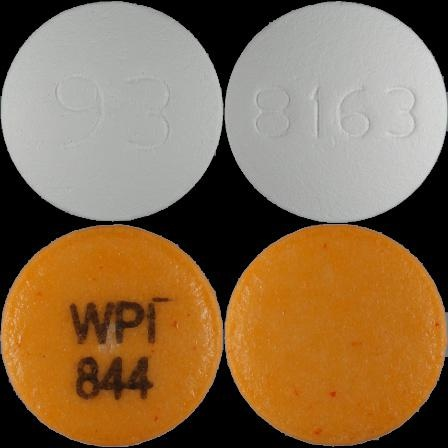61786-828: (0, 0, 224, 224)
